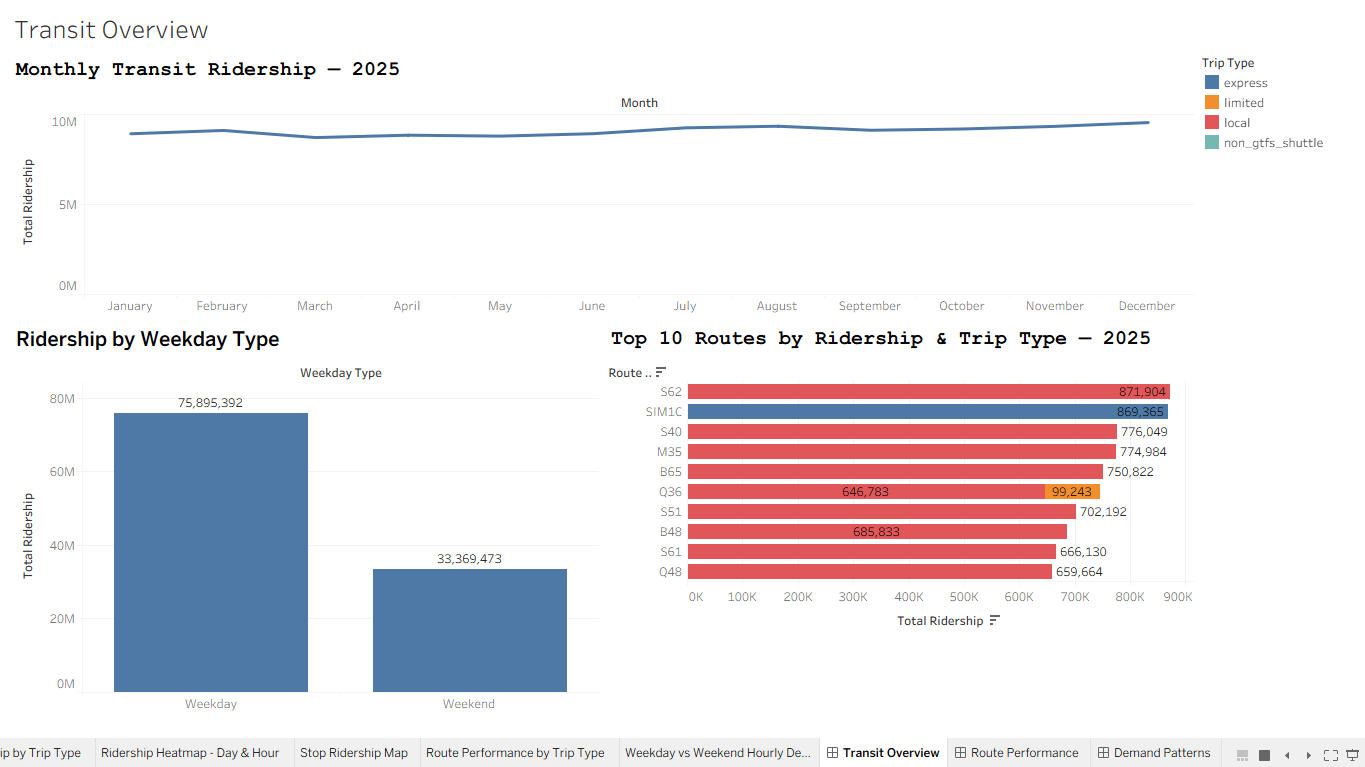

What the dashboard file says about the page in this screenshot:
{"tool":"tableau","page":{"name":"Transit Overview","canvas":[1000,1000],"units":"permille","ordinal":2},"visuals":[{"type":"title","box":[6.9,12.7,986.1,66.5]},{"type":"worksheet","title":"Monthly Ridership Trend","mark":"Line","rows":["total_ridership"],"cols":["Month"],"box":[6.9,79.1,847.6,359.2]},{"type":"legend","title":"Route Performance by Trip Type","param":"[federated.11br26r1duuwqi1gbfq6r0n5chgm].[none:Trip Type:nk]","box":[854.5,79.1,138.5,167.7]},{"type":"worksheet","title":"Ridership by Weekday Type","mark":"Bar","rows":["total_ridership"],"cols":["Calculation_2224038827675650"],"box":[6.9,438.3,423.8,549.1]},{"type":"worksheet","title":"Route Performance by Trip Type","mark":"Bar","rows":["Route ID"],"cols":["total_ridership"],"box":[430.7,438.3,423.8,549.1]}]}

Visuals, with their boxes on the dashboard's canvas, which has no fixed pixel size, in thousandths of its width and height (x1, y1, x2, y2). These are canvas units, not pixel positions in the 1365x767 screenshot, which may show the page scaled, cropped or inside an application window:
title: <bbox>7, 13, 993, 79</bbox>
"Monthly Ridership Trend" worksheet (Line marks): <bbox>7, 79, 854, 438</bbox>
"Route Performance by Trip Type" legend: <bbox>854, 79, 993, 247</bbox>
"Ridership by Weekday Type" worksheet (Bar marks): <bbox>7, 438, 431, 987</bbox>
"Route Performance by Trip Type" worksheet (Bar marks): <bbox>431, 438, 854, 987</bbox>
